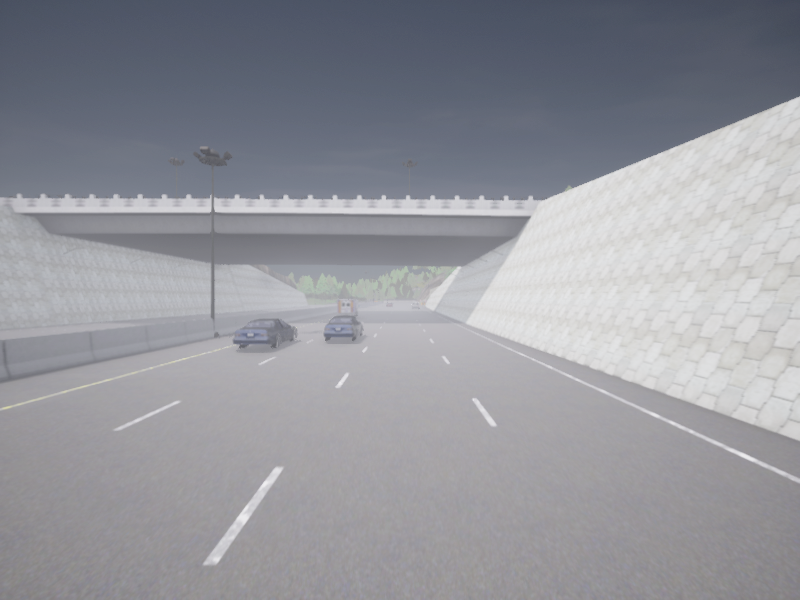vehicle: (233, 318, 297, 347), (324, 316, 362, 340), (337, 299, 359, 316), (412, 303, 418, 308), (387, 303, 392, 306)
